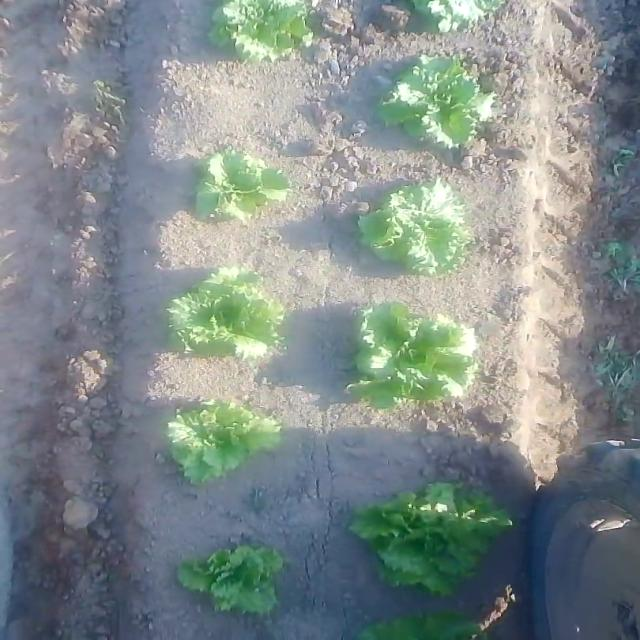Lettuce-Ready-to-Harvest: (347, 484, 514, 596), (346, 298, 478, 410), (164, 266, 288, 361), (380, 54, 496, 149), (358, 179, 469, 276), (166, 401, 283, 486), (191, 149, 290, 227), (176, 545, 284, 615)
